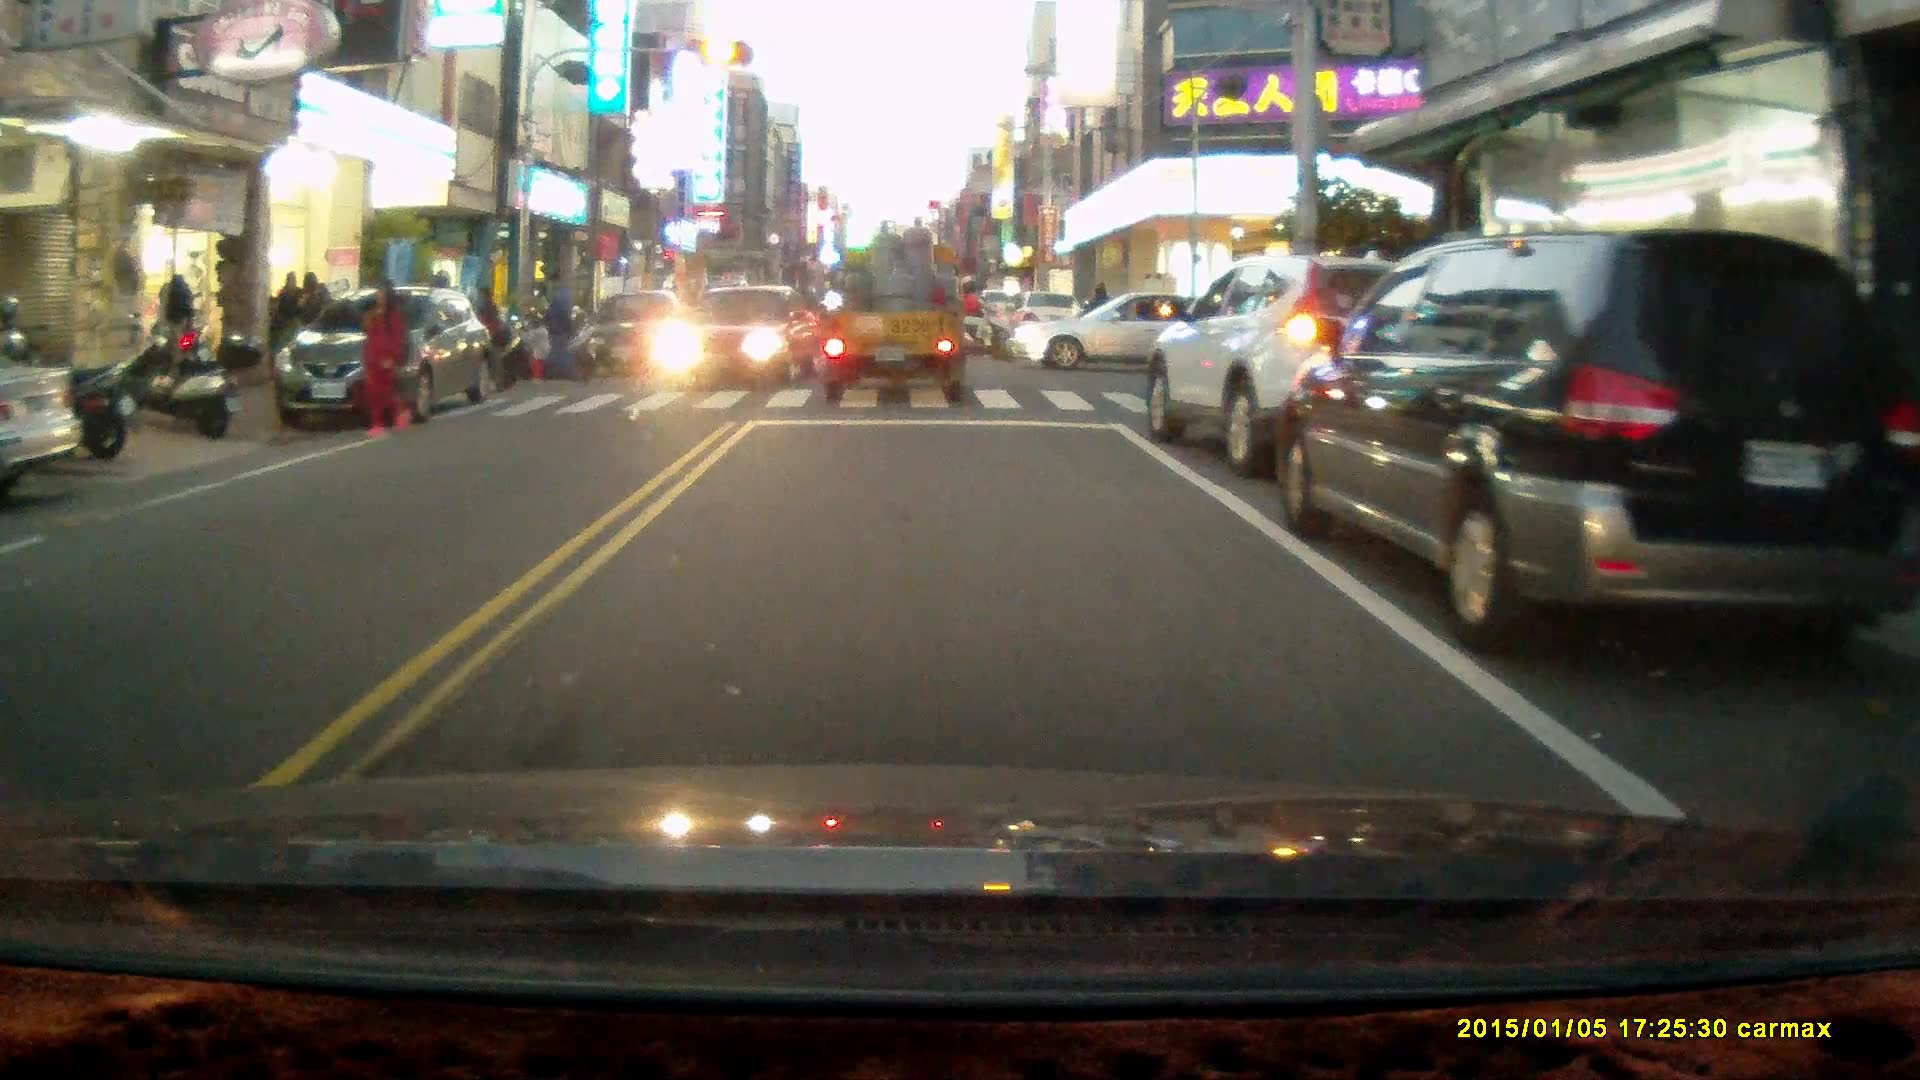pedestrian: (354, 272, 414, 435), (529, 265, 587, 386), (154, 267, 196, 371), (469, 281, 508, 388), (524, 313, 557, 381)
rider: (932, 268, 1018, 358)
vehicle: (1281, 229, 1886, 649), (1145, 251, 1483, 471), (272, 286, 485, 431), (818, 214, 978, 399), (1016, 286, 1243, 372), (653, 283, 816, 387), (572, 288, 698, 377), (1, 354, 83, 472)
